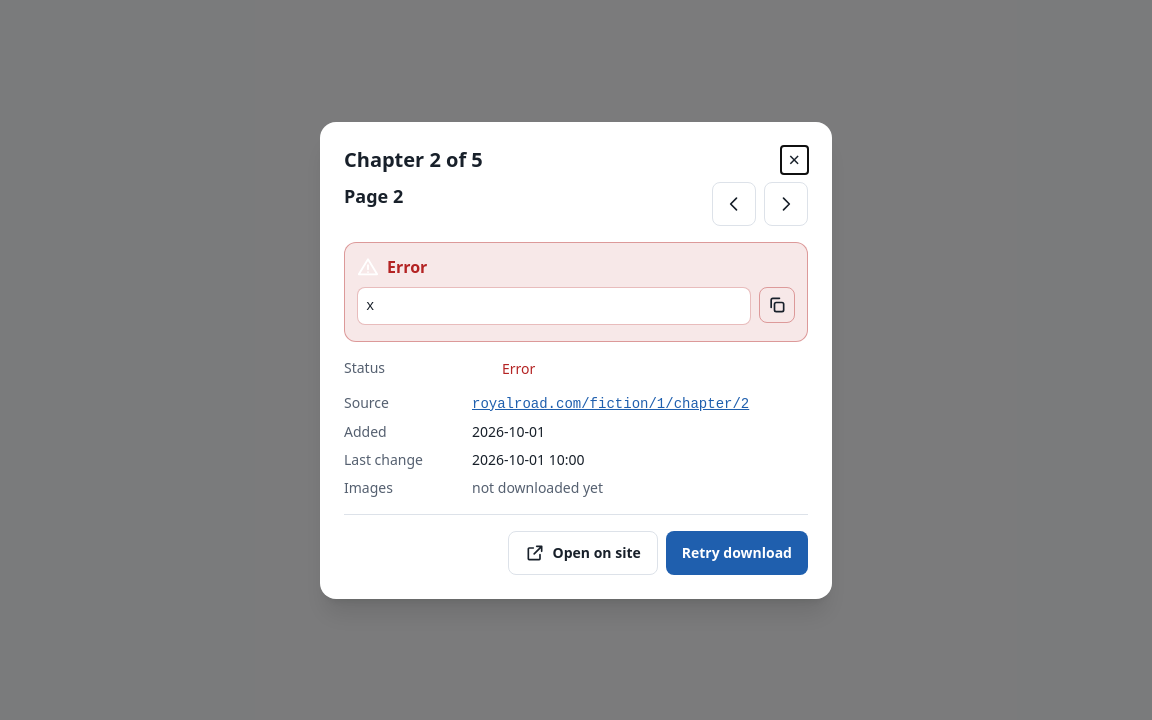
Test: ChapterDetails › primary action › shows the API error and stays open when the request fails
What coordinates should you click on to do the following:
click the button "Retry download"
I would click on:
 (737, 552)
Its box is top-left (666, 530), bottom-right (808, 574).
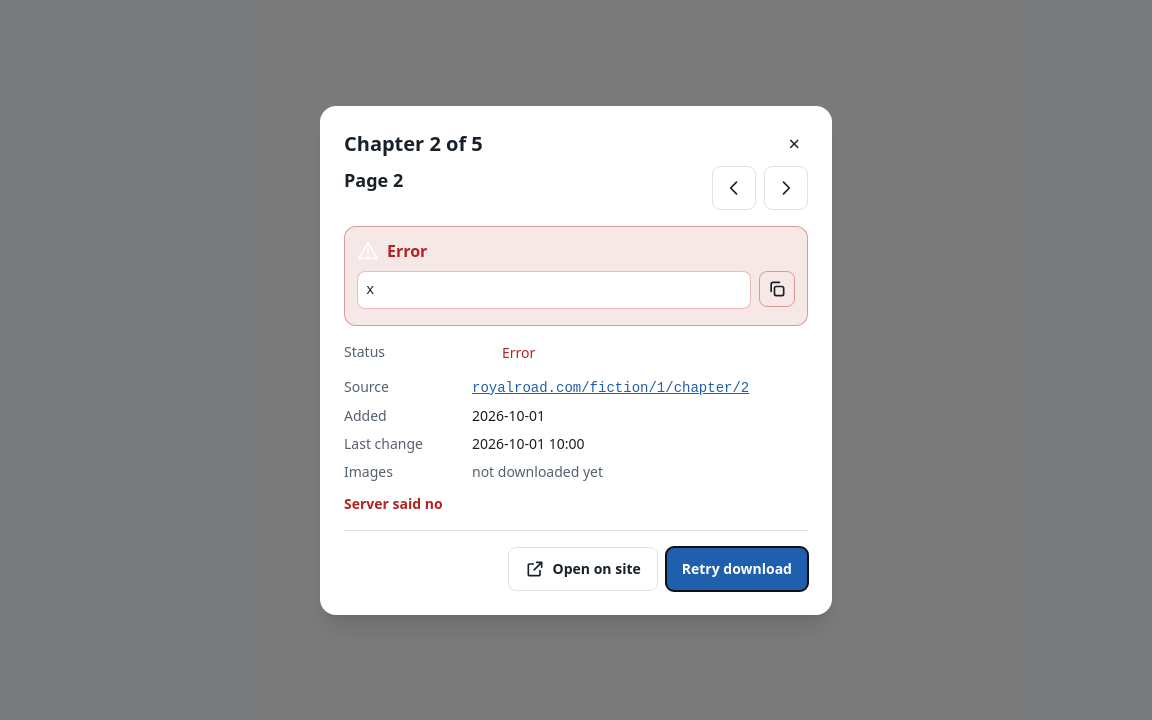
Check: the message reads "Server said no", box top-left (344, 494), bottom-right (443, 512)
